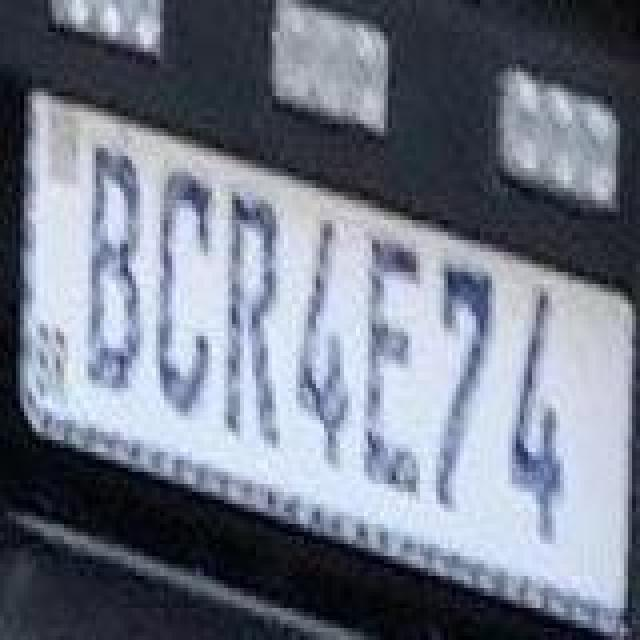4: (506, 286, 566, 546), (292, 216, 348, 472)
7: (434, 254, 494, 514)
B: (80, 144, 144, 400)
C: (154, 170, 214, 422)
E: (360, 230, 424, 498)
R: (222, 190, 282, 450)
